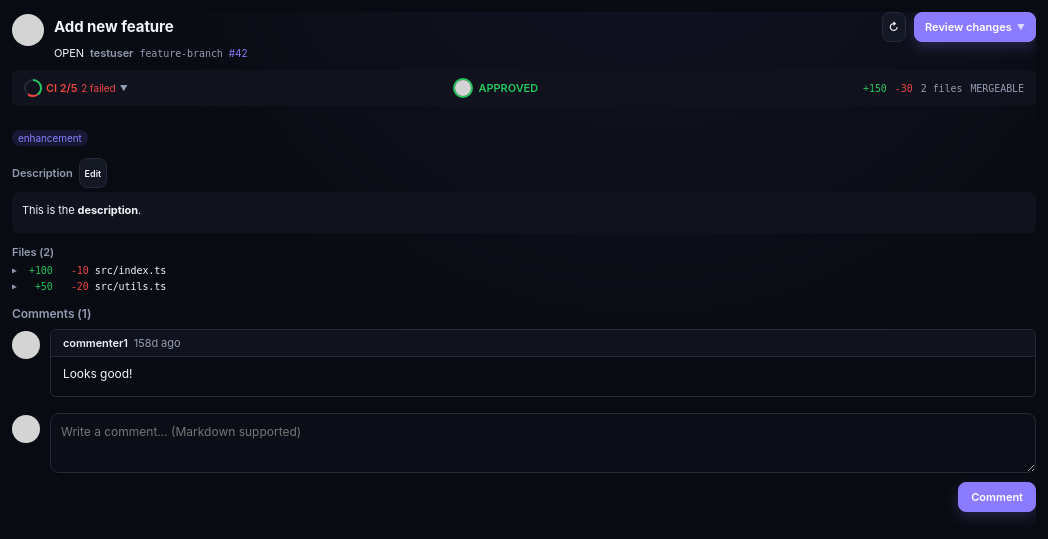
PRDetail › title editing: click title to enter edit mode, then cancel
Expected: the element with test id "pr-title" is shown, left=54, top=12, right=1036, bottom=42
# Click on the title text to enter edit mode
Click the text "Add new feature": (114, 27) left=54, top=17, right=174, bottom=36
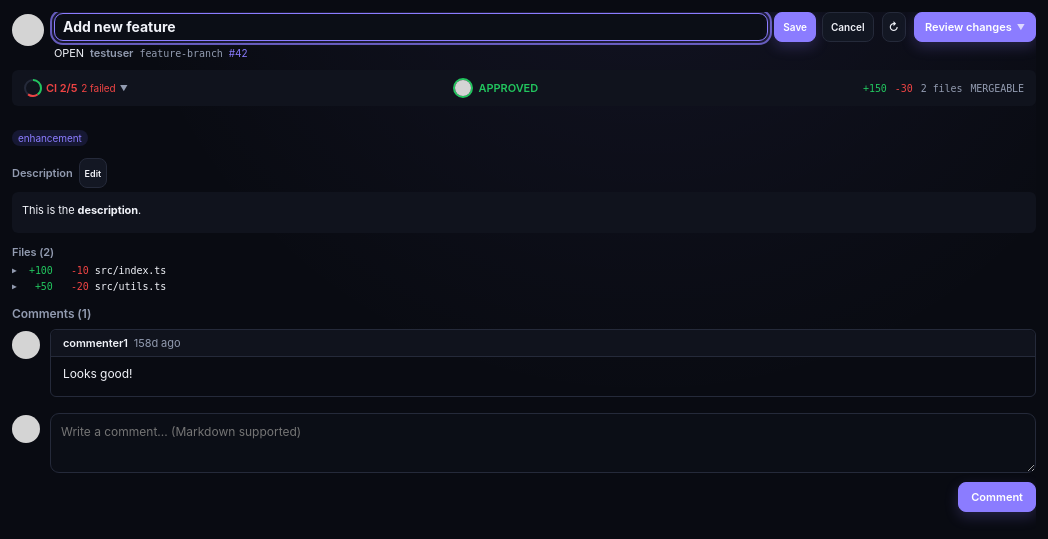
Now the field showing "Add new feature" is shown, box left=54, top=13, right=768, bottom=41
Now the button "Cancel" is shown
# Click Cancel to exit edit mode
Click the button "Cancel": (848, 27) left=822, top=12, right=874, bottom=42
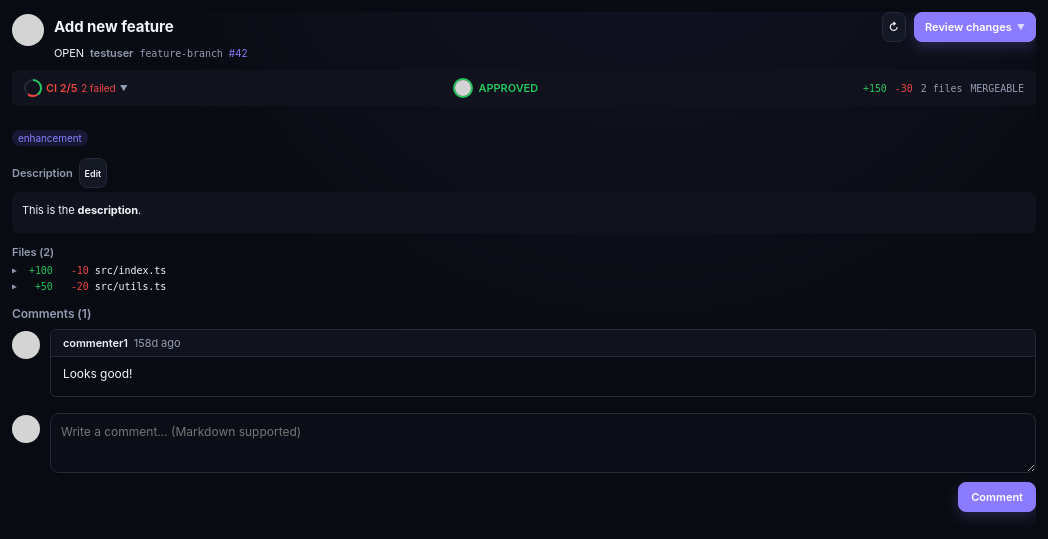
Now the text "Add new feature" is shown, box left=54, top=17, right=174, bottom=36
